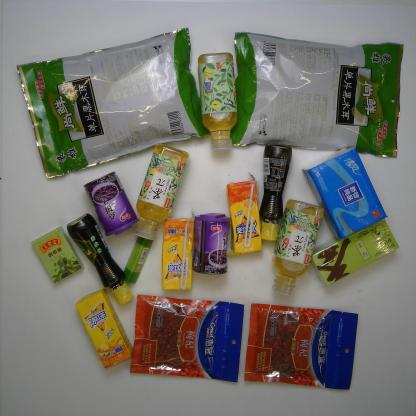Candy: (28, 223, 86, 286)
Canned Food: (82, 169, 141, 240), (190, 210, 234, 276)
Dried Food: (13, 23, 215, 182), (228, 26, 406, 161)
Dried Fruit: (128, 293, 246, 384), (242, 302, 360, 392)
Drink: (132, 140, 193, 243), (269, 197, 326, 298), (73, 287, 134, 371), (194, 49, 239, 156), (219, 170, 266, 262), (158, 213, 196, 294)
Instant Drink: (309, 215, 400, 288)
Seasoner: (65, 211, 136, 308), (256, 140, 294, 246)
Stationery: (120, 233, 155, 286)
Tissue: (298, 144, 390, 242)
